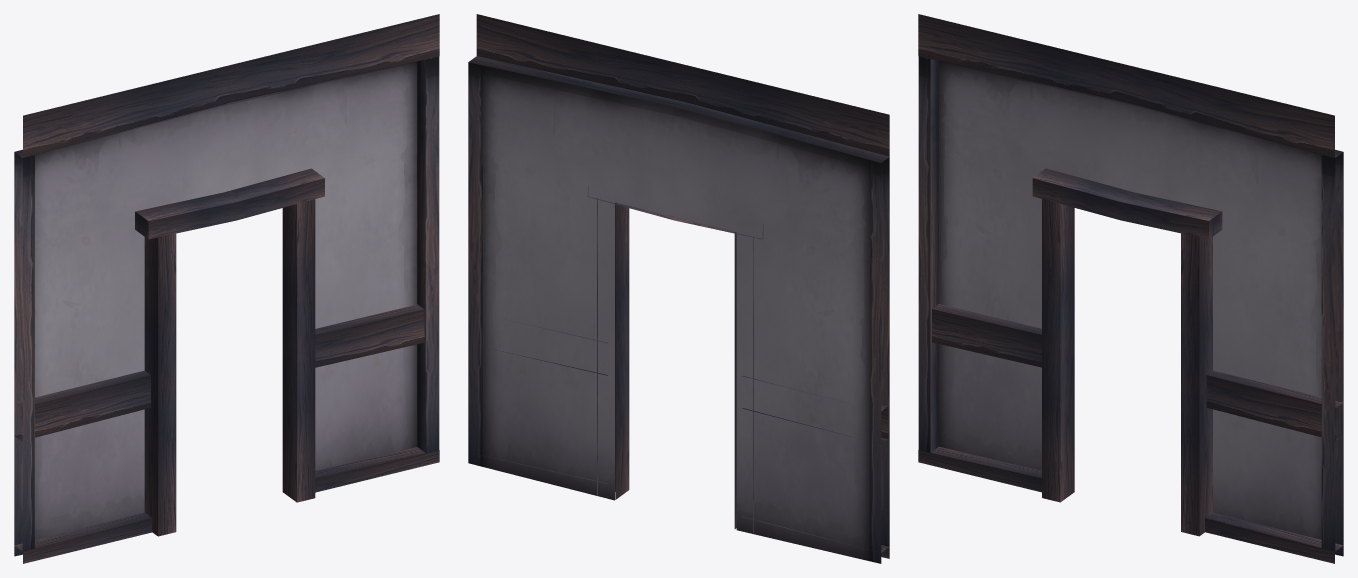
The model's file is WallDoor_1sided_detailed_2ndFloor.fbx.
The picture shows the model from 3 angles, left to right: view 1: azimuth 30°, elevation 25°; view 2: azimuth 150°, elevation 25°; view 3: azimuth 330°, elevation 25°; orthographic projection.
Parts seen in each view (by area): view 1: WallDoor_1sided_detailed_2ndFloor; view 2: WallDoor_1sided_detailed_2ndFloor; view 3: WallDoor_1sided_detailed_2ndFloor.
Boxes of the visible parts, x1=… form: WallDoor_1sided_detailed_2ndFloor: x1=14, y1=14, x2=439, y2=563; WallDoor_1sided_detailed_2ndFloor: x1=468, y1=14, x2=889, y2=563; WallDoor_1sided_detailed_2ndFloor: x1=918, y1=14, x2=1343, y2=563.
Size of the model in its own units: 0.6266 by 0.646 by 0.0371.
